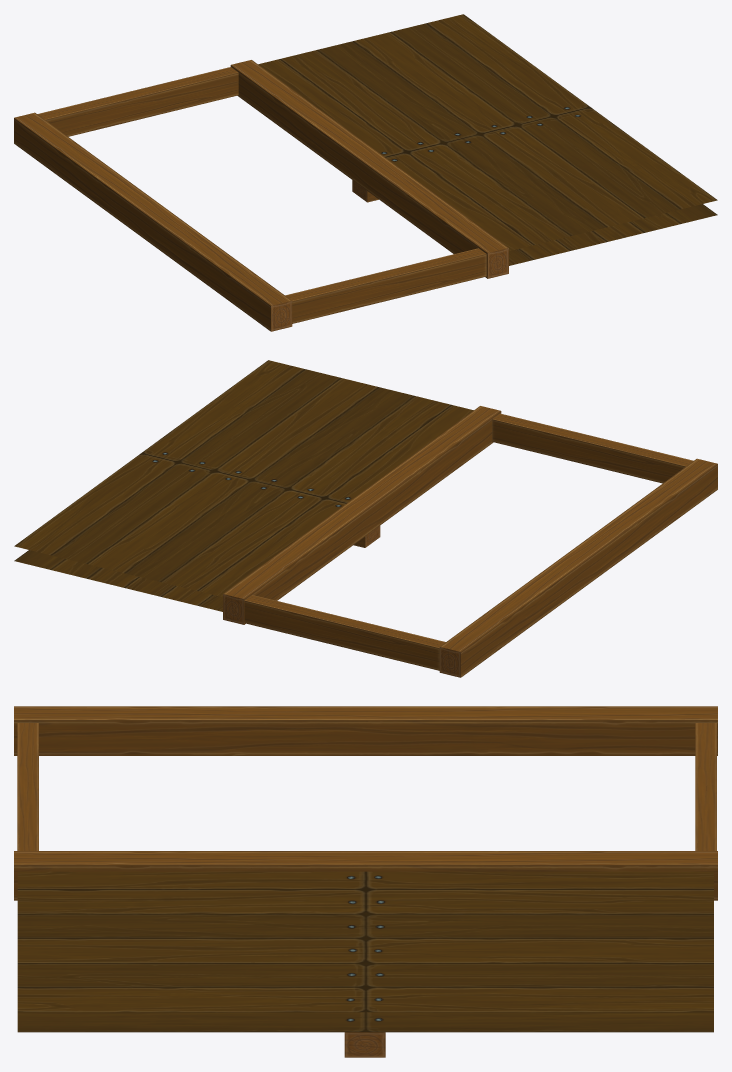
Rendered from SM_House_Floor_5x4_Hatch_04.fbx.
3 views of the same model, one above another, from view 1: azimuth 30°, elevation 25°; view 2: azimuth 150°, elevation 25°; view 3: azimuth 270°, elevation 25° (orthographic). The views are drawn at different scales.
Parts seen in each view (by area): view 1: SM_House_Floor_5x4_Hatch_04; view 2: SM_House_Floor_5x4_Hatch_04; view 3: SM_House_Floor_5x4_Hatch_04.
Part boxes in pixels (left/top/right/bottom): SM_House_Floor_5x4_Hatch_04: left=14, top=14, right=717, bottom=331; SM_House_Floor_5x4_Hatch_04: left=14, top=360, right=717, bottom=677; SM_House_Floor_5x4_Hatch_04: left=14, top=706, right=717, bottom=1057.
Bounding box in the file's own units: 5.09 × 0.411 × 5.05.
